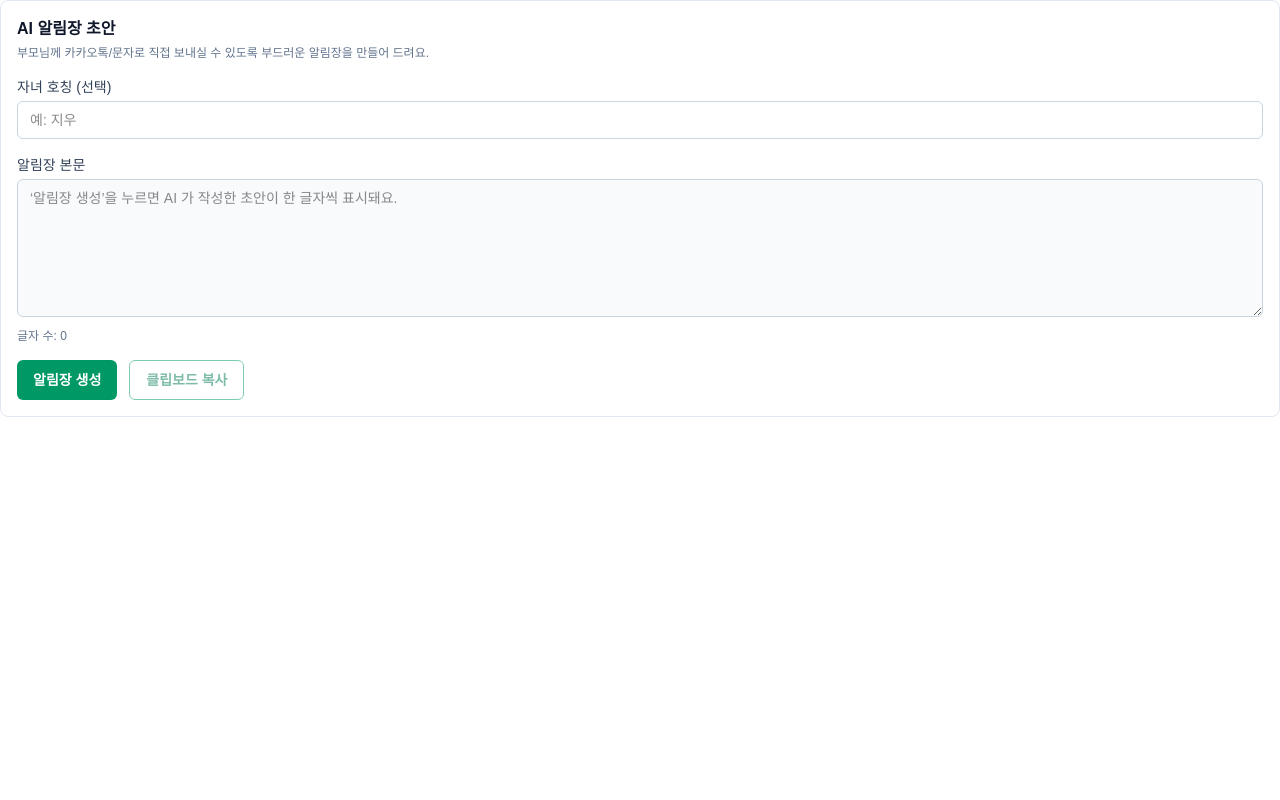
Scenario: CushionNoteGenerator (email) › scenario 7: Server Action 가 sent:false (Resend 실패) → error 메시지 + hasError:true 이벤트
The width and height of the screenshot is (1280, 800).
Click the button with test id "cushion-generate-button". click: (67, 380)
box: 17,360 -> 117,400
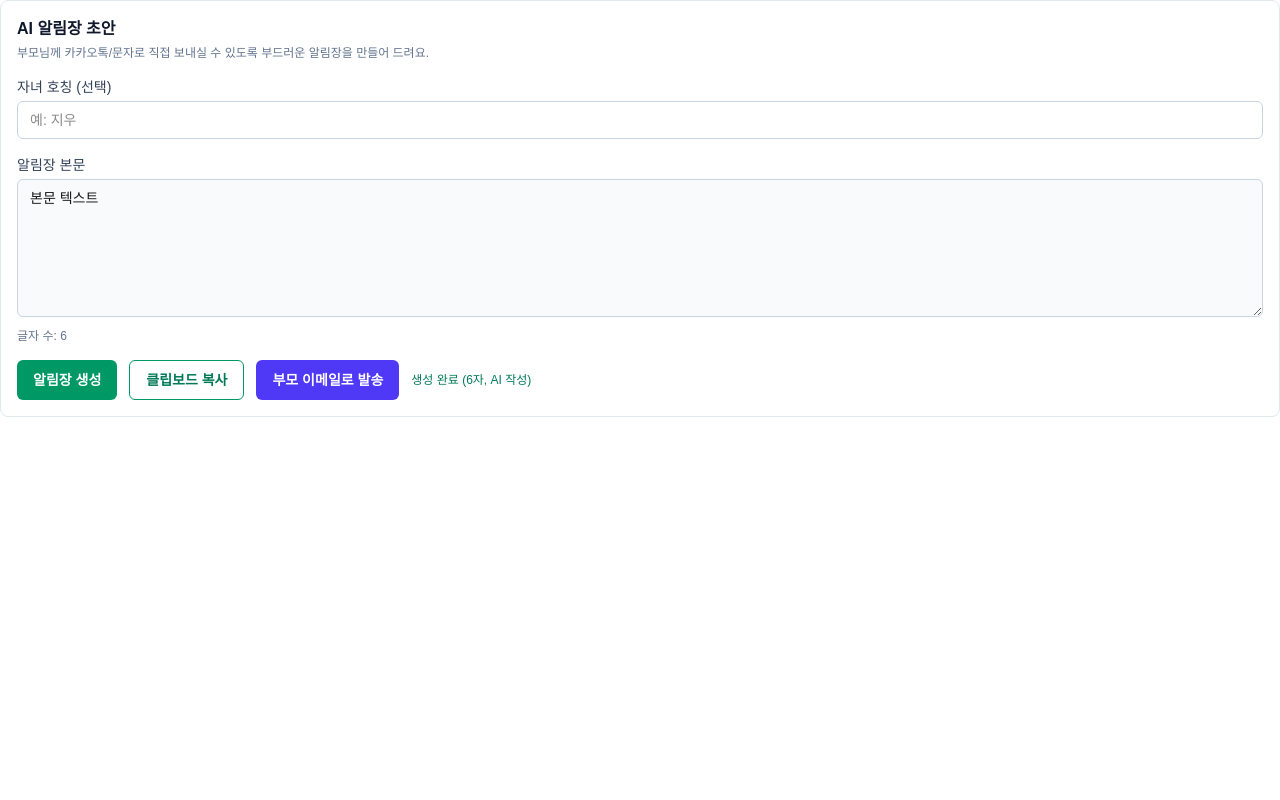
Expected: the text "생성 완료 (6자, AI 작성)" is shown, 411,372 -> 531,388
Click the button with test id "cushion-email-button". click: (328, 380)
box: 256,360 -> 399,400
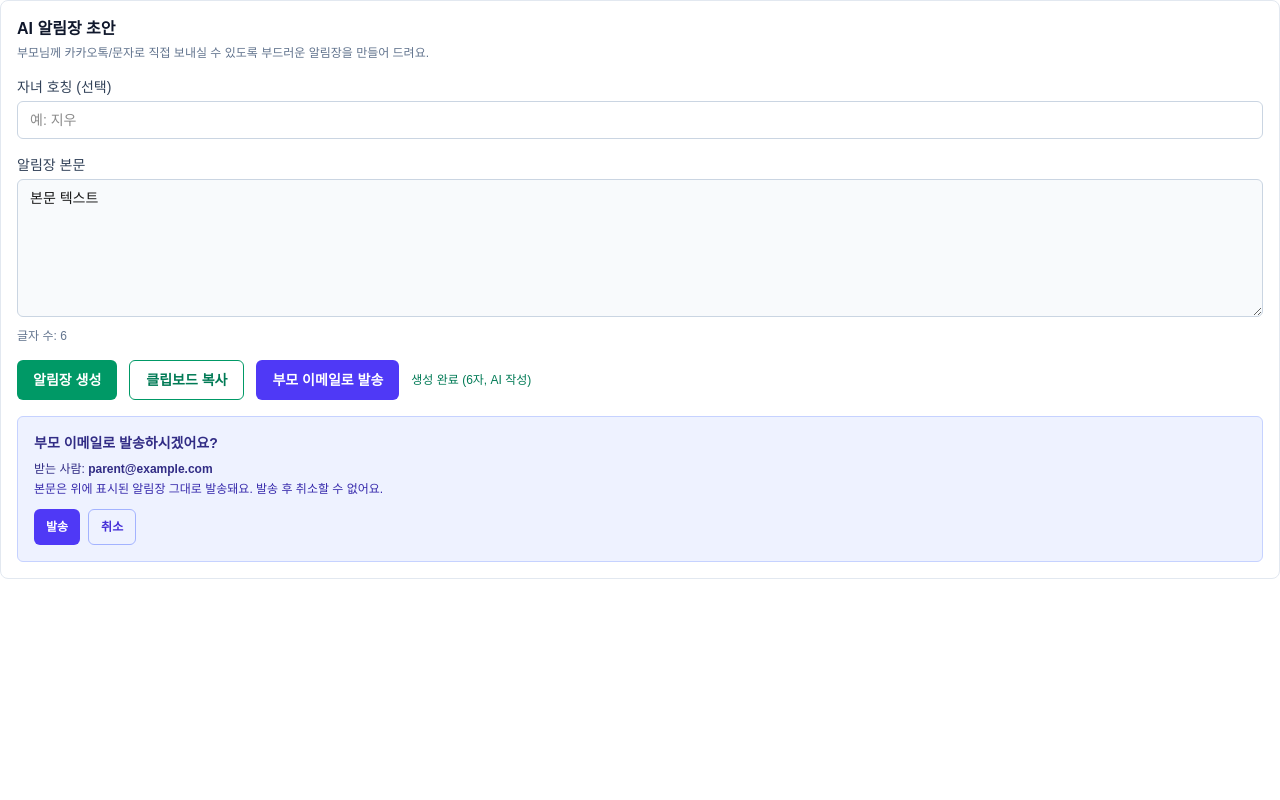
Expected: the dialog with test id "cushion-email-confirm-dialog" is shown, 17,416 -> 1263,562
Click the button with test id "cushion-email-confirm-button". click: (57, 527)
box: 34,509 -> 80,545
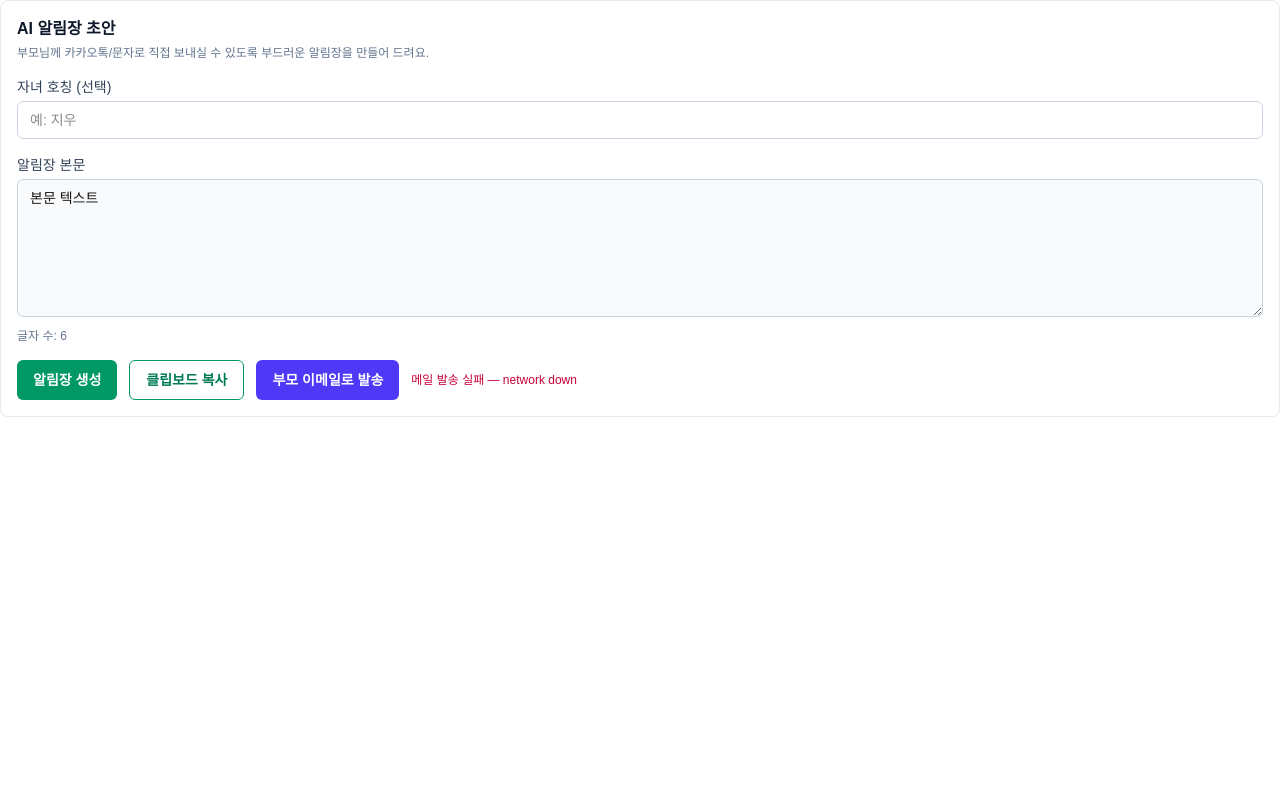
Expected: the message "메일 발송 실패 — network down" is shown, 411,372 -> 577,388
Expected: the message with test id "cushion-email-status-error" shows "network down", 411,373 -> 577,387
